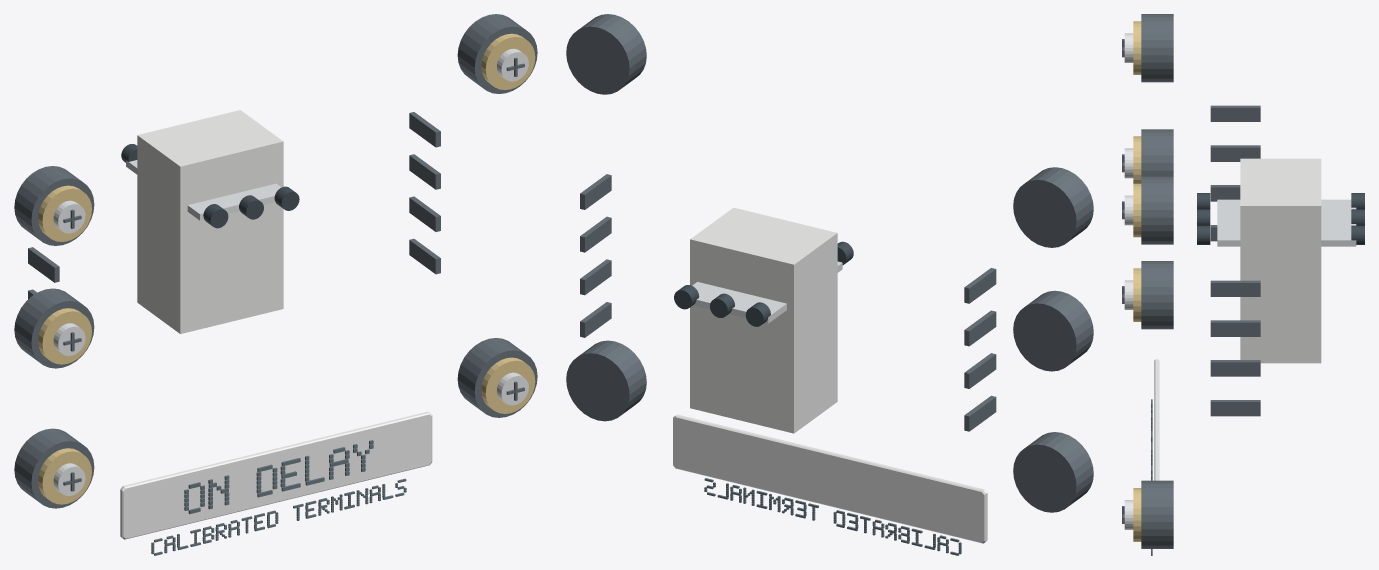
The model's file is timer.glb.
3 views of the same model, side by side, from view 1: azimuth 30°, elevation 25°; view 2: azimuth 150°, elevation 25°; view 3: azimuth 270°, elevation 25° (orthographic). The views are drawn at different scales.
Visible parts, largest first — view 1: timer-detailed; view 2: timer-detailed; view 3: timer-detailed.
Part boxes in pixels (x1,y1,x2,y2): timer-detailed: [14, 14, 537, 555]; timer-detailed: [566, 14, 1093, 555]; timer-detailed: [1122, 14, 1364, 555].
Bounding box in the file's own units: 2.52 × 2.13 × 1.11.
